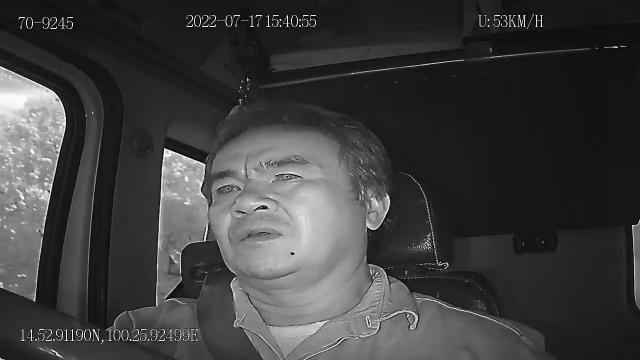SafeDriving: (266, 162, 310, 190), (208, 173, 248, 200)
Seatbelt: (195, 270, 268, 360)
